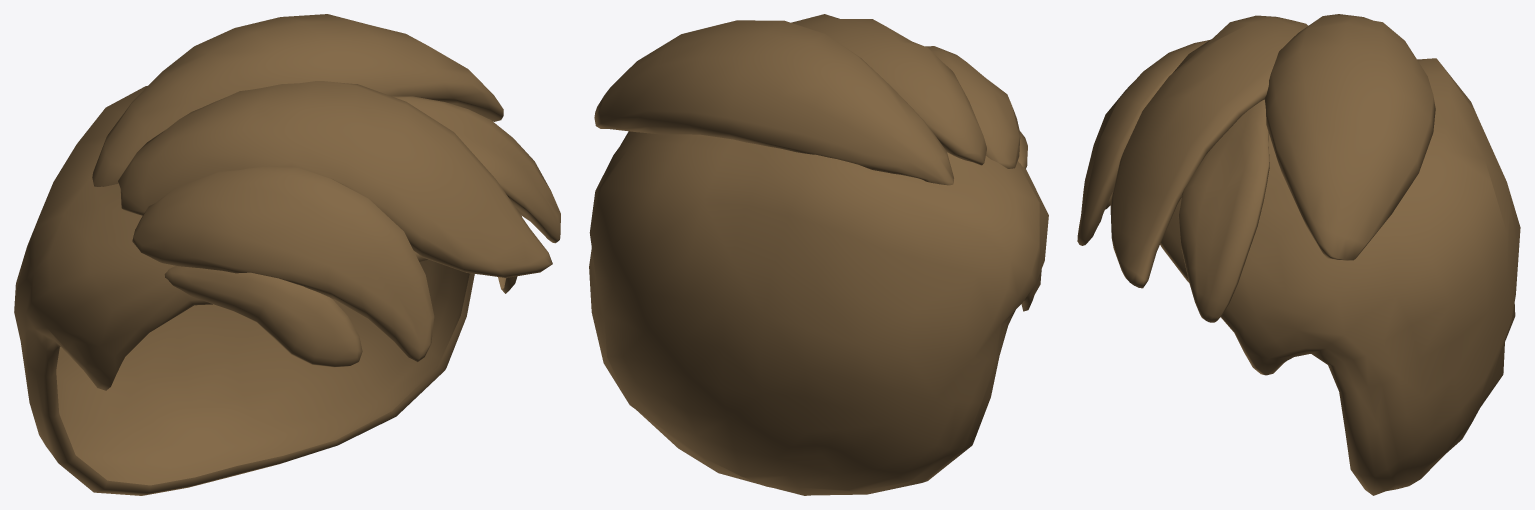
Rendered from Boy Hair 01.glb.
3 views of the same model, side by side, from view 1: azimuth 30°, elevation 25°; view 2: azimuth 150°, elevation 25°; view 3: azimuth 270°, elevation 25° (orthographic). The views are drawn at different scales.
Parts seen in each view (by area): view 1: BoysHair1; view 2: BoysHair1; view 3: BoysHair1.
Part boxes in pixels (x1=…): BoysHair1: x1=14, y1=14, x2=560, y2=495; BoysHair1: x1=589, y1=14, x2=1048, y2=495; BoysHair1: x1=1077, y1=14, x2=1520, y2=495.
Size of the model in its own units: 0.00962 by 0.00902 by 0.00838.
